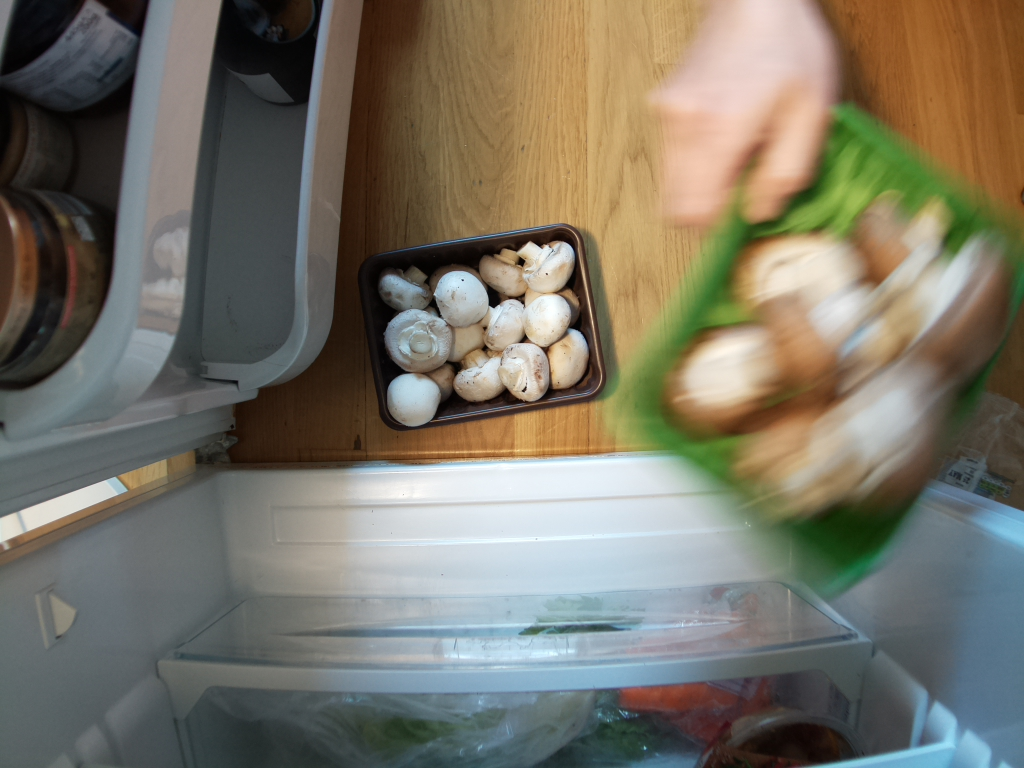mushrooms: (629, 100, 1024, 583), (357, 230, 611, 435)
